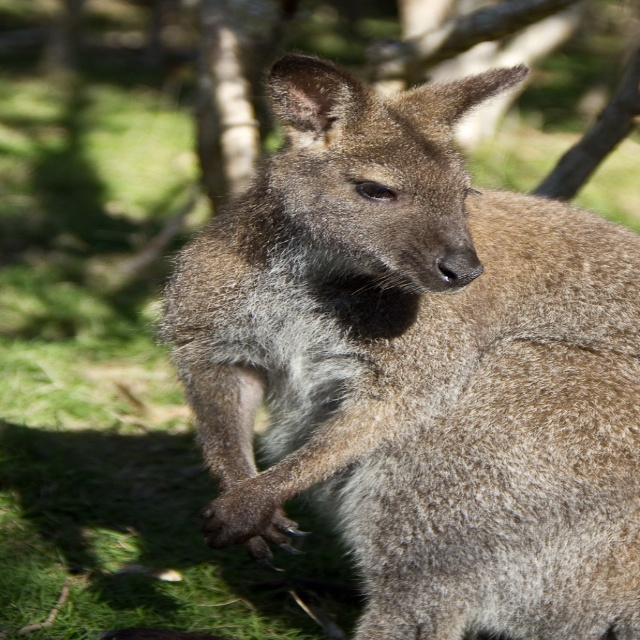Kangaroo: (148, 53, 640, 640)
